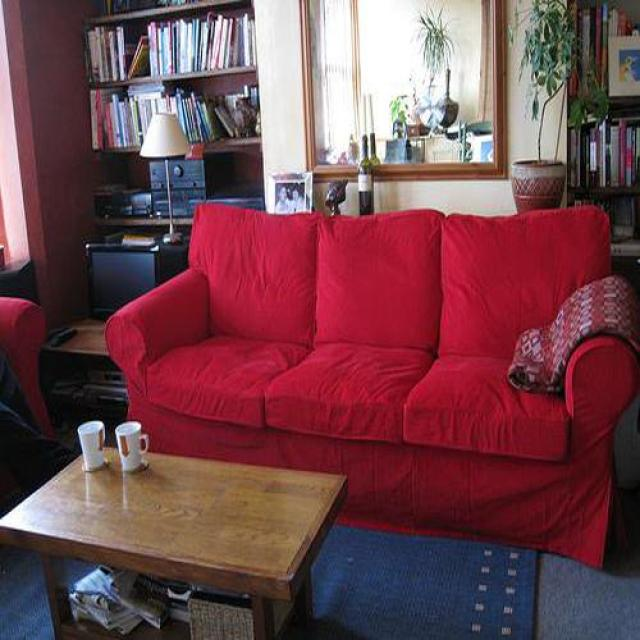sofa: (104, 204, 640, 571)
